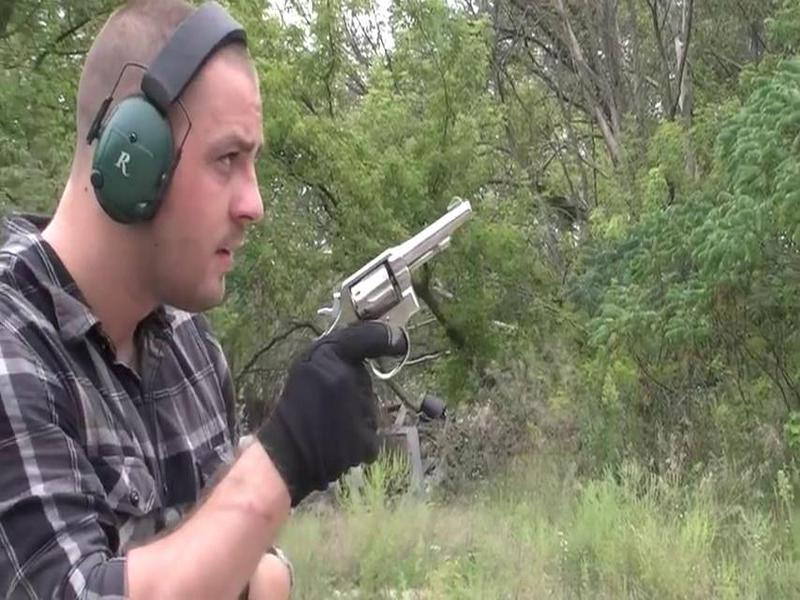Revolver: (316, 171, 467, 380)
